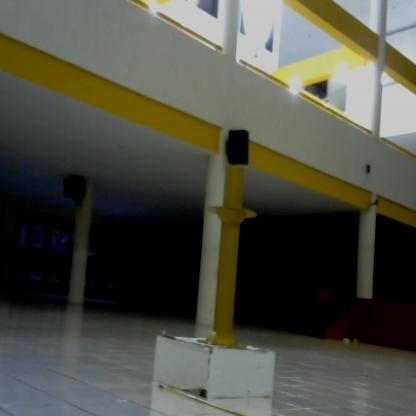pole: (198, 168, 260, 350)
